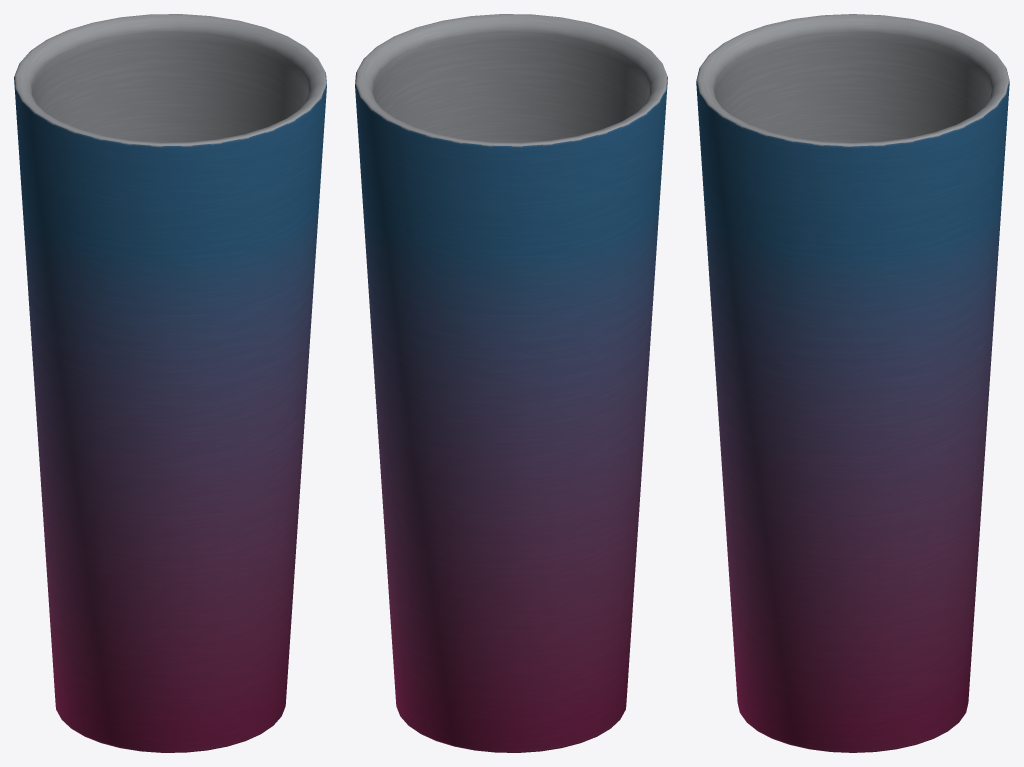
File: cup.fbx
The picture shows the model from 3 angles, left to right: view 1: azimuth 30°, elevation 25°; view 2: azimuth 150°, elevation 25°; view 3: azimuth 270°, elevation 25°; orthographic projection.
Parts seen in each view (by area): view 1: Cylinder; view 2: Cylinder; view 3: Cylinder.
Part boxes in pixels (bbox=[...]): Cylinder: bbox=[14, 14, 326, 752]; Cylinder: bbox=[355, 14, 667, 752]; Cylinder: bbox=[696, 14, 1009, 752].
Size of the model in its own units: 272 by 599 by 272.
